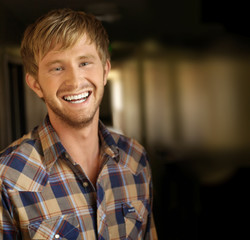teen: (26, 14, 113, 120)
